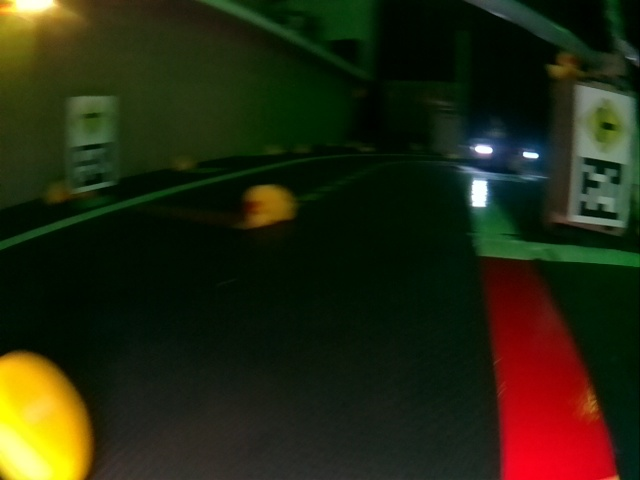Duckie: (1, 352, 92, 479), (242, 185, 296, 226)
Duckiebot: (467, 140, 541, 173)
Intersection sign: (579, 96, 627, 151), (73, 100, 114, 136)
QR code: (575, 156, 624, 223), (69, 141, 115, 188)
